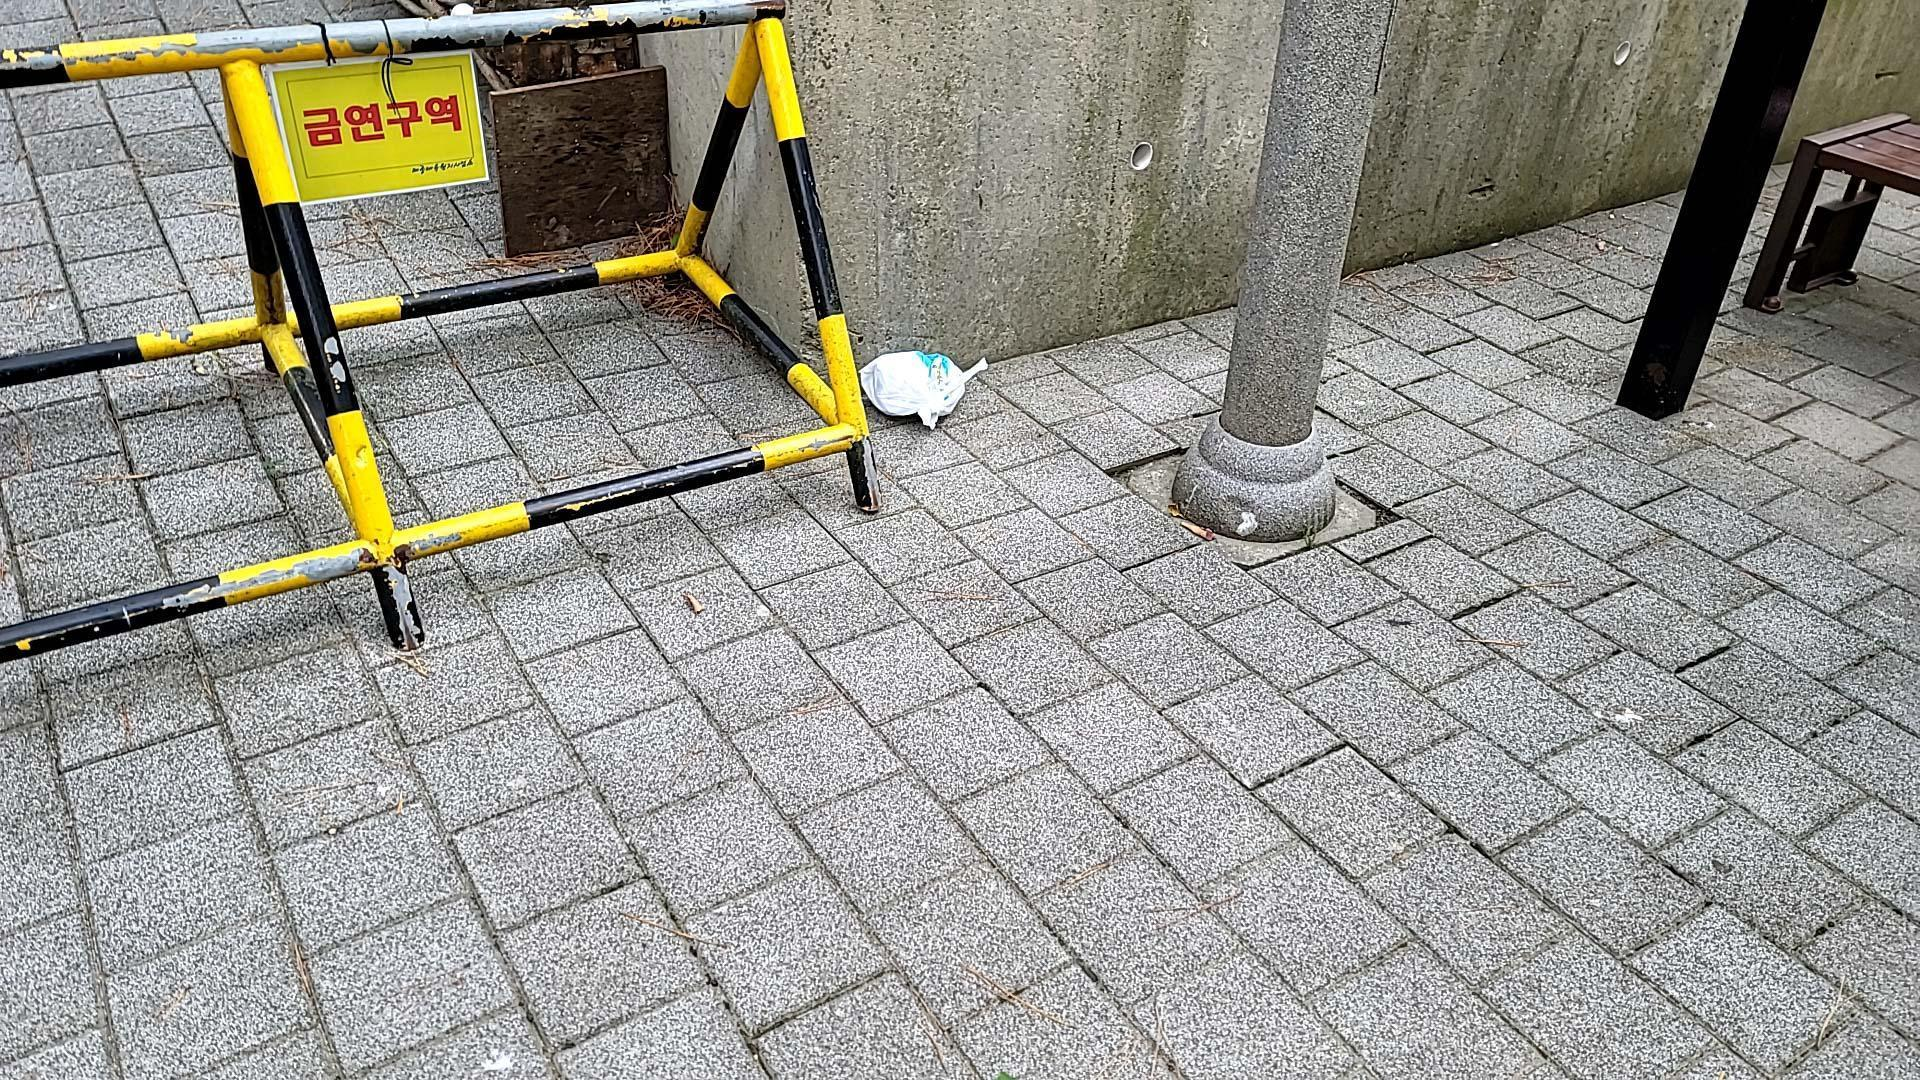white_bag: (855, 347, 992, 438)
